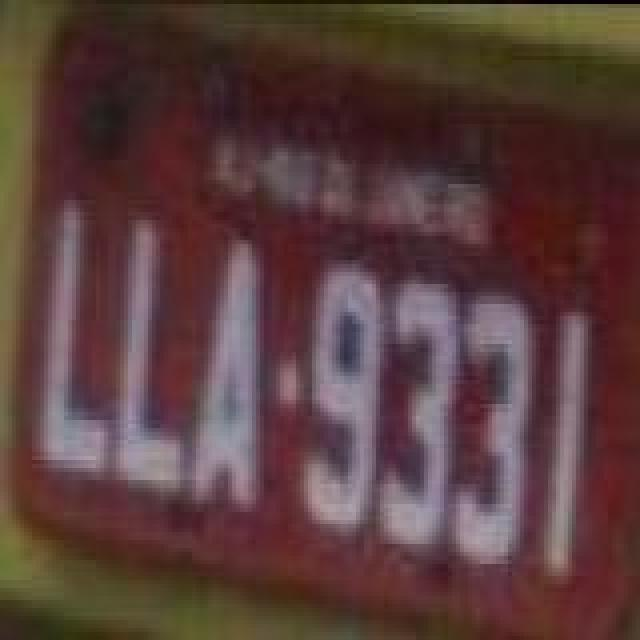1: (544, 304, 592, 584)
3: (446, 298, 538, 570), (374, 278, 458, 558)
9: (298, 258, 390, 538)
A: (186, 242, 262, 514)
L: (32, 204, 112, 484), (112, 220, 184, 500)
